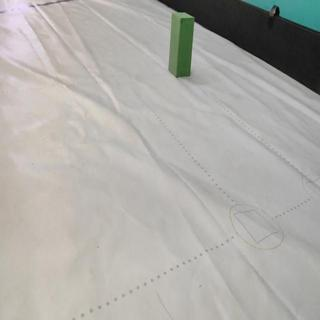greenbox: (167, 11, 194, 78)
